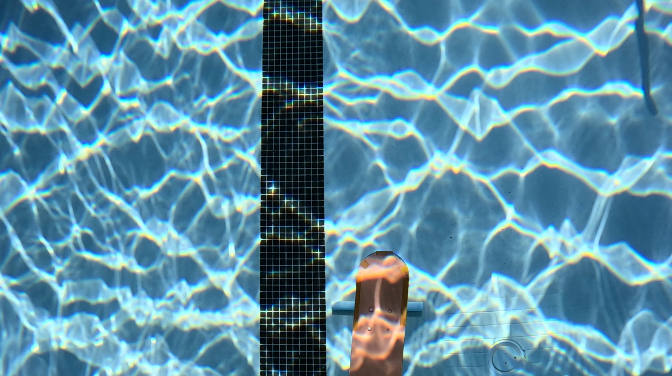pathmarker: (349, 250, 408, 372)
